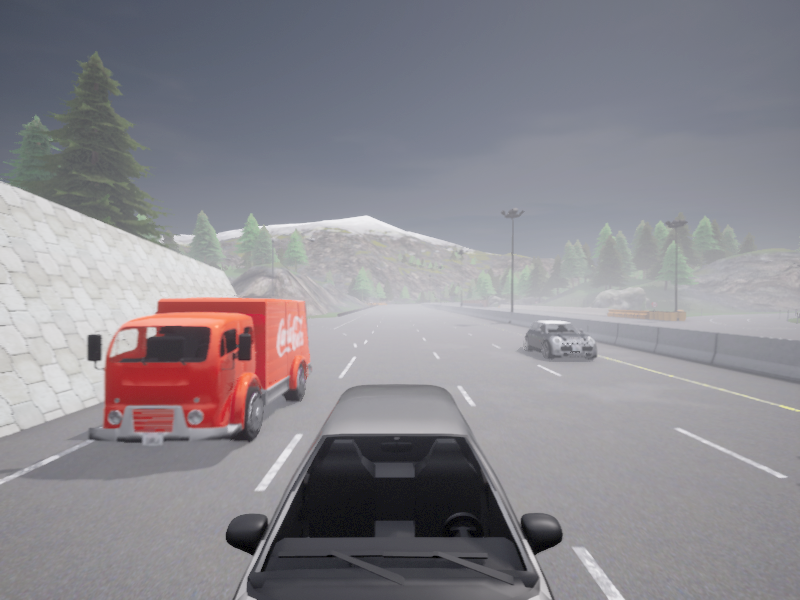vehicle: (225, 384, 562, 599), (87, 297, 311, 445), (524, 321, 596, 359)
